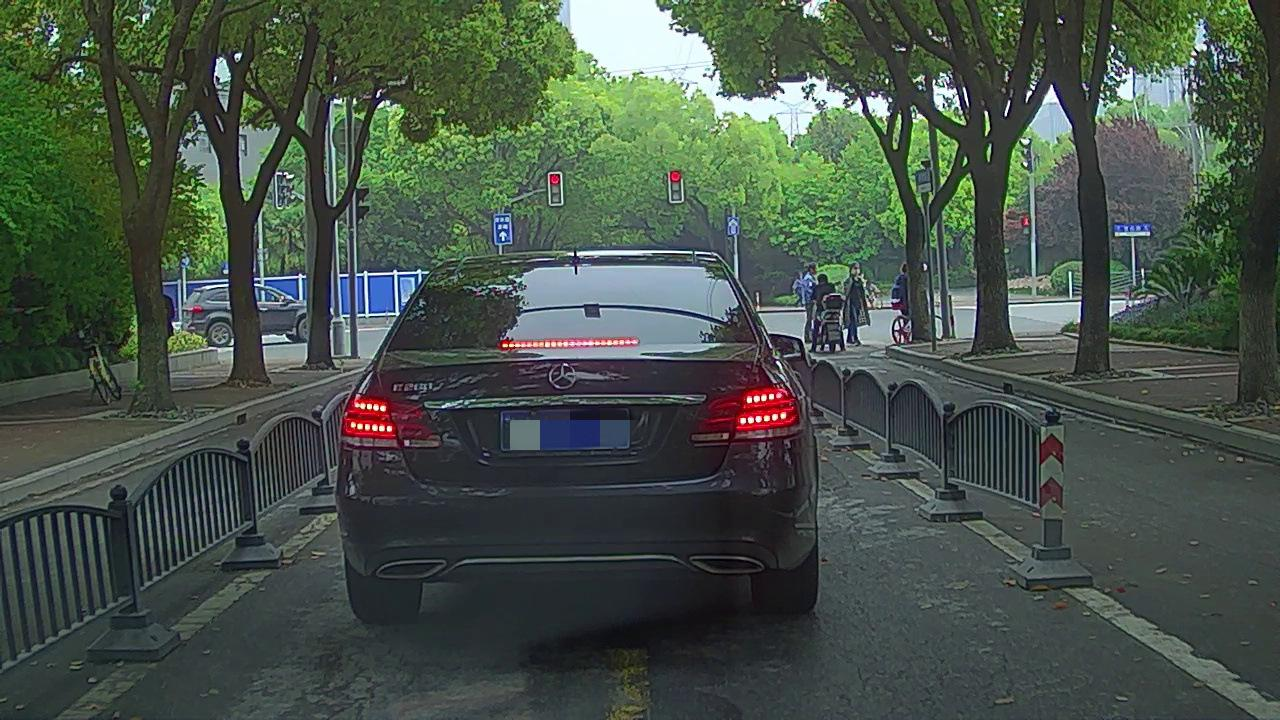traffic_light: (669, 170, 681, 203), (550, 173, 562, 204)
